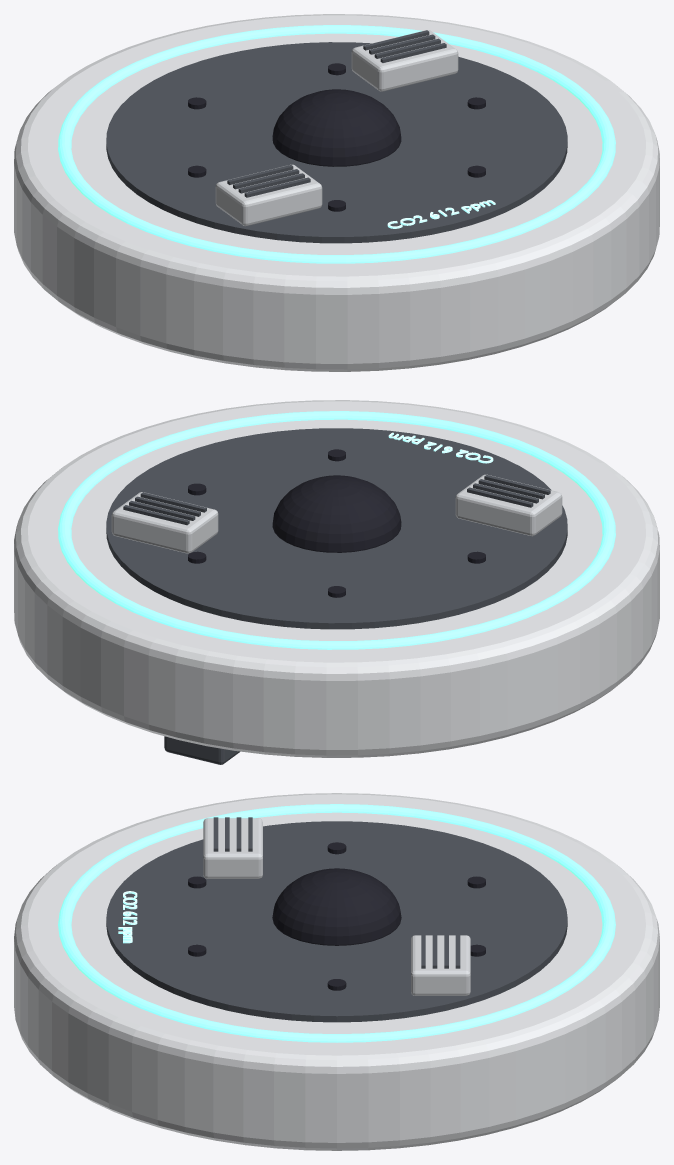
Rendered from zone_sensor_pod.glb.
The picture shows the model from 3 angles, top to bottom: view 1: azimuth 30°, elevation 25°; view 2: azimuth 150°, elevation 25°; view 3: azimuth 270°, elevation 25°; orthographic projection.
Parts seen in each view (by area): view 1: Camera_Dome, Status_Ring, CO2_Readout; view 2: Camera_Dome, Status_Ring, CO2_Readout; view 3: Camera_Dome, Status_Ring, CO2_Readout.
Part boxes in pixels (bbox=[...]): Camera_Dome: bbox=[14, 14, 659, 371]; Status_Ring: bbox=[58, 25, 615, 263]; CO2_Readout: bbox=[387, 200, 495, 228]; Camera_Dome: bbox=[14, 400, 659, 764]; Status_Ring: bbox=[58, 411, 615, 649]; CO2_Readout: bbox=[388, 432, 493, 463]; Camera_Dome: bbox=[14, 793, 659, 1150]; Status_Ring: bbox=[58, 804, 615, 1042]; CO2_Readout: bbox=[118, 891, 137, 943].
Size of the model in its own units: 0.28 by 0.0816 by 0.28.
Materials: 3 (3 with a texture image).
